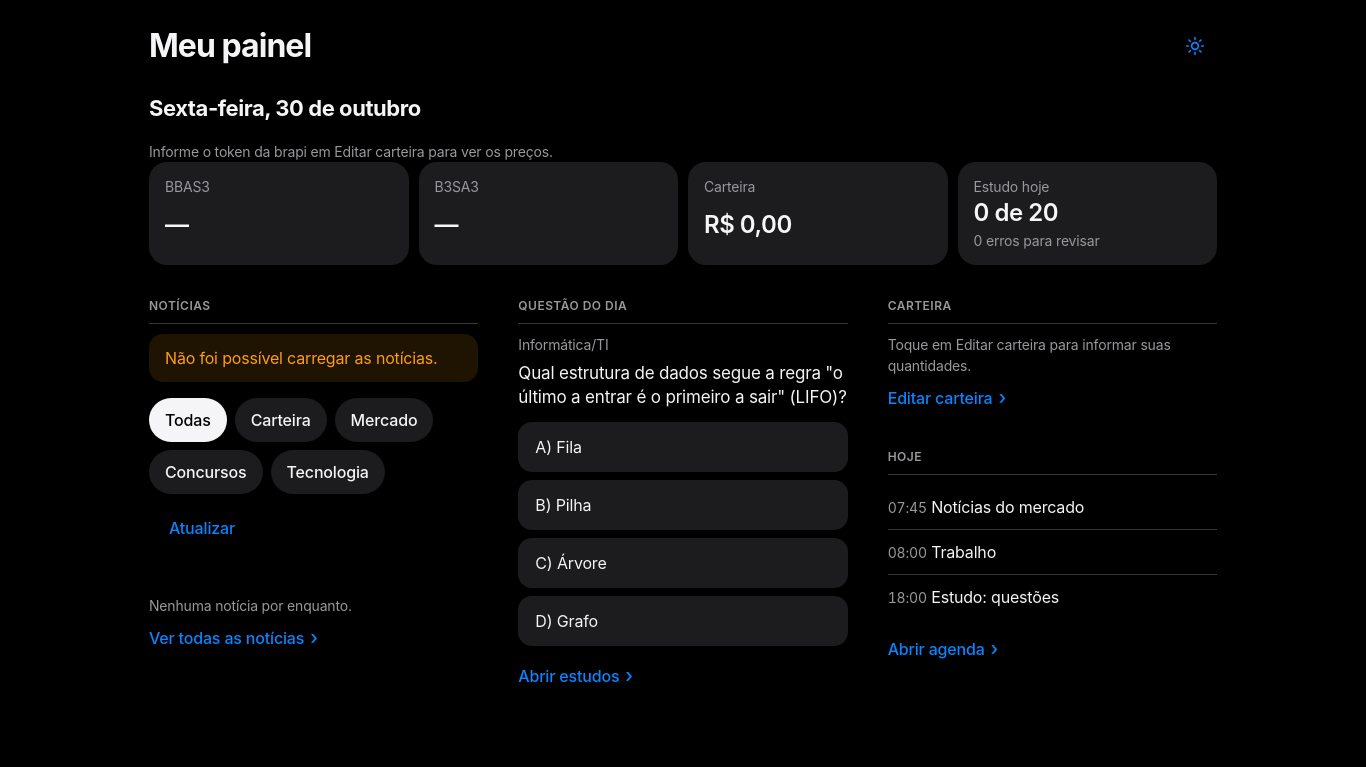
Test case: navegar para Estudos mostra a questão
Click the link "Abrir estudos".
click(576, 676)  # box x1=518 y1=654 x2=633 y2=698
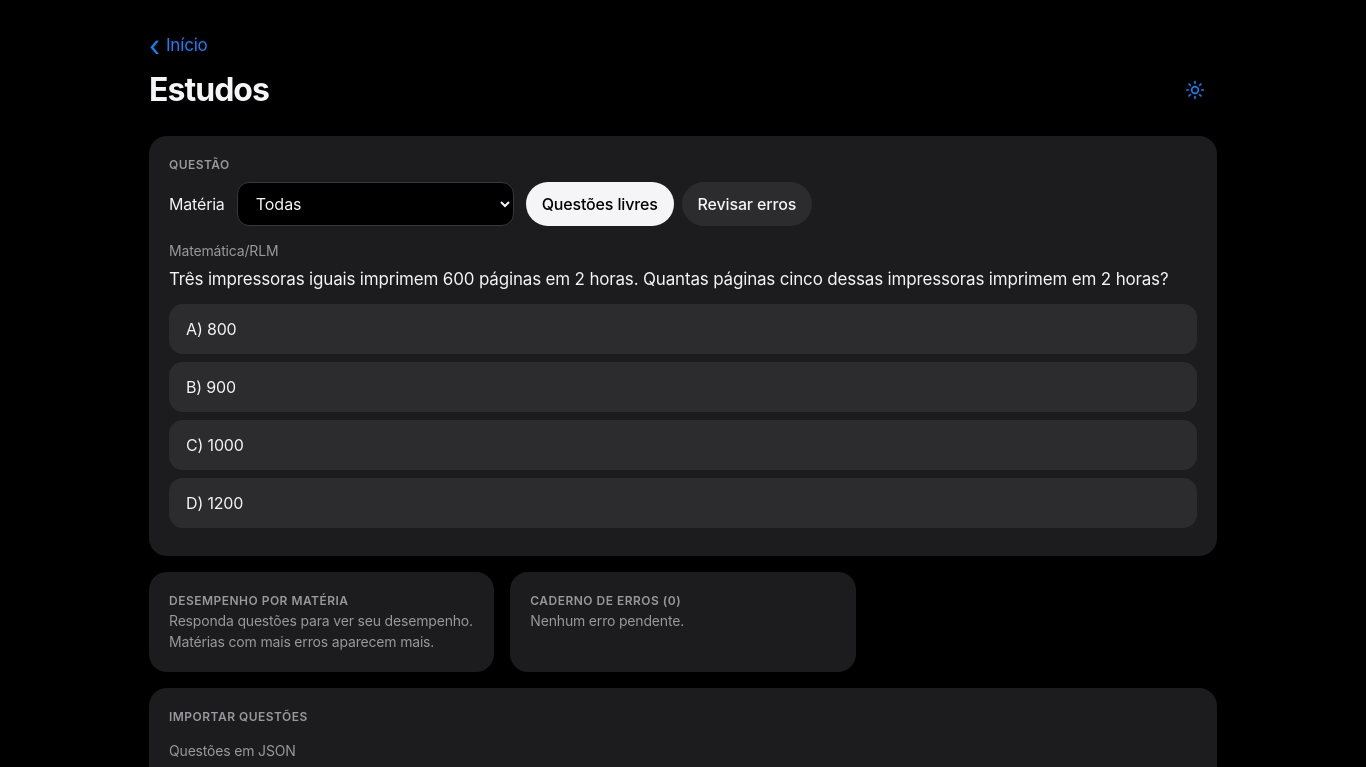
Expected: the heading "Questão" is shown, x1=169 y1=157 x2=230 y2=172
